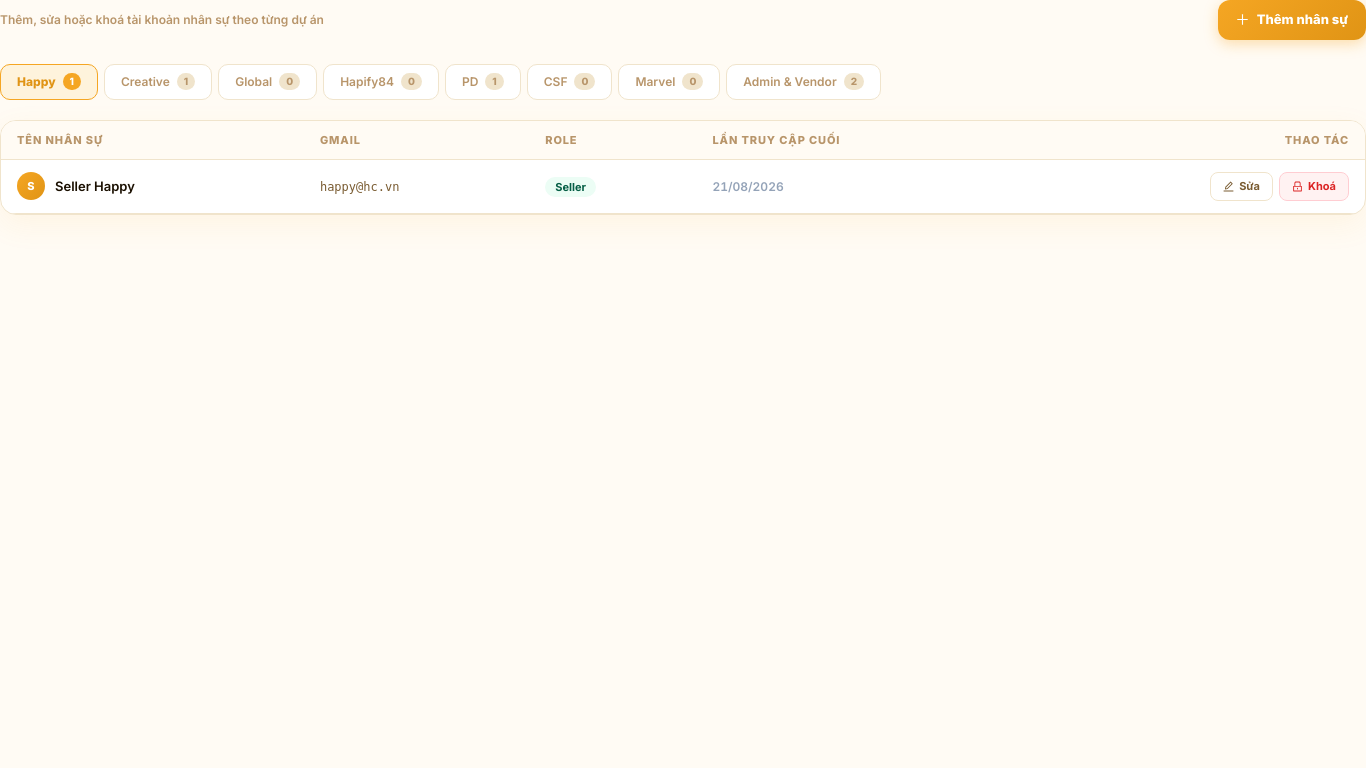
Test: phần còn lại của màn hình không bị ảnh hưởng › nút "Thêm nhân sự" vẫn còn và vẫn mở được modal
Expected: the text "Seller Happy" is shown, x1=55 y1=176 x2=135 y2=196
Click the button "Thêm nhân sự". click: (1292, 20)
box: x1=1218 y1=0 x2=1365 y2=40
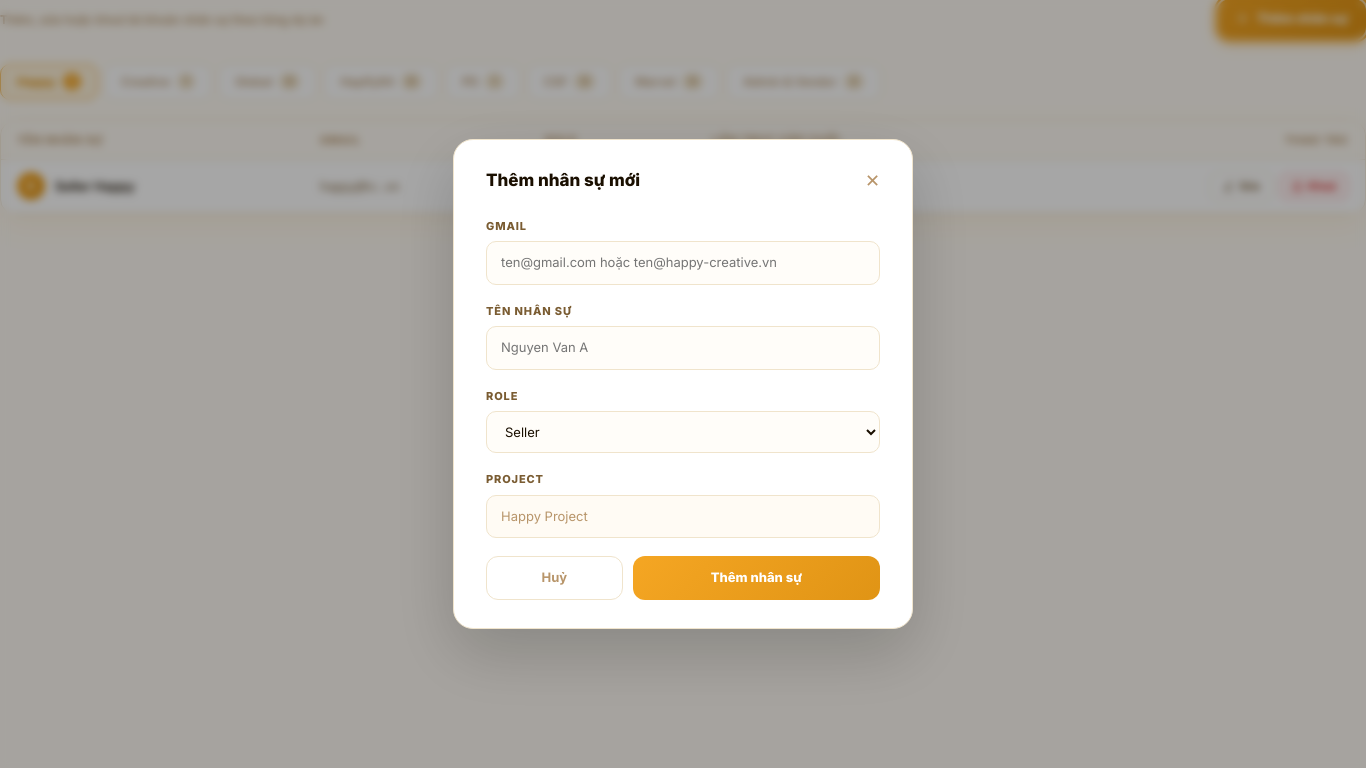
Expected: the text "Thêm nhân sự mới" is shown, x1=486 y1=168 x2=640 y2=194
